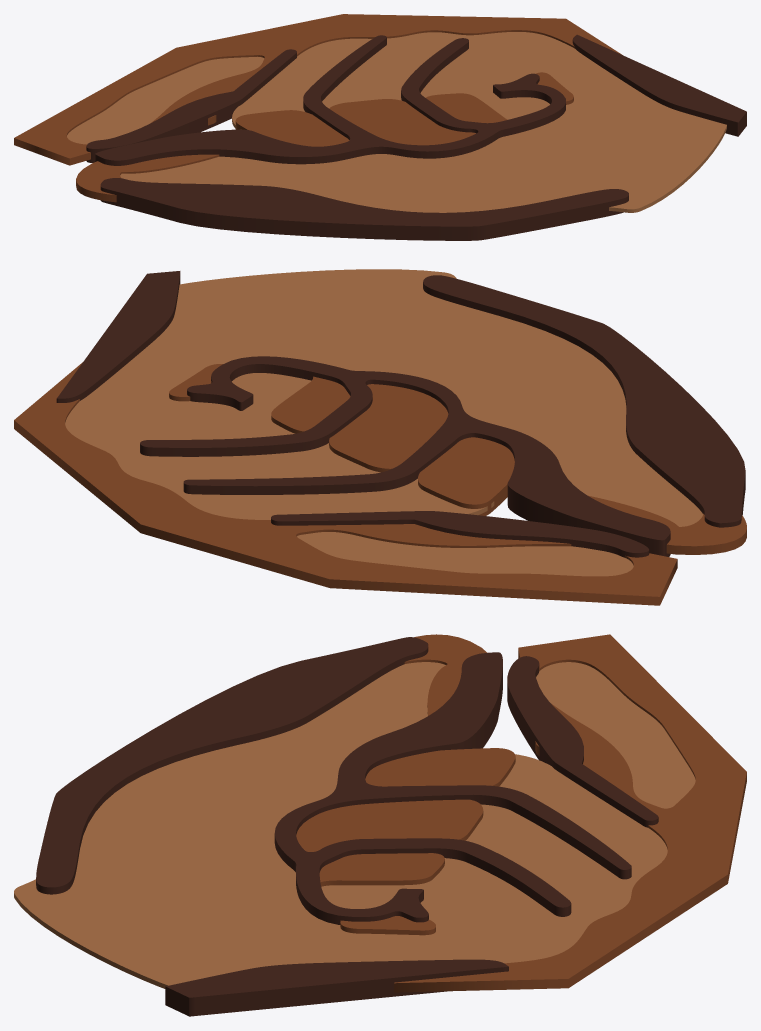
File: emoji_u1f90f_1f3fe.glb
The picture shows the model from 3 angles, top to bottom: view 1: azimuth 30°, elevation 25°; view 2: azimuth 150°, elevation 25°; view 3: azimuth 270°, elevation 25°; orthographic projection. The views are drawn at different scales.
Visible parts, largest first — view 1: emoji_u1f90f_1f3fe; view 2: emoji_u1f90f_1f3fe; view 3: emoji_u1f90f_1f3fe.
Part boxes in pixels (<box>): emoji_u1f90f_1f3fe: <box>14,14,746,240</box>; emoji_u1f90f_1f3fe: <box>14,269,746,605</box>; emoji_u1f90f_1f3fe: <box>14,634,746,1016</box>.
Bounding box in the file's own units: 0.0336 × 0.001 × 0.0283.
